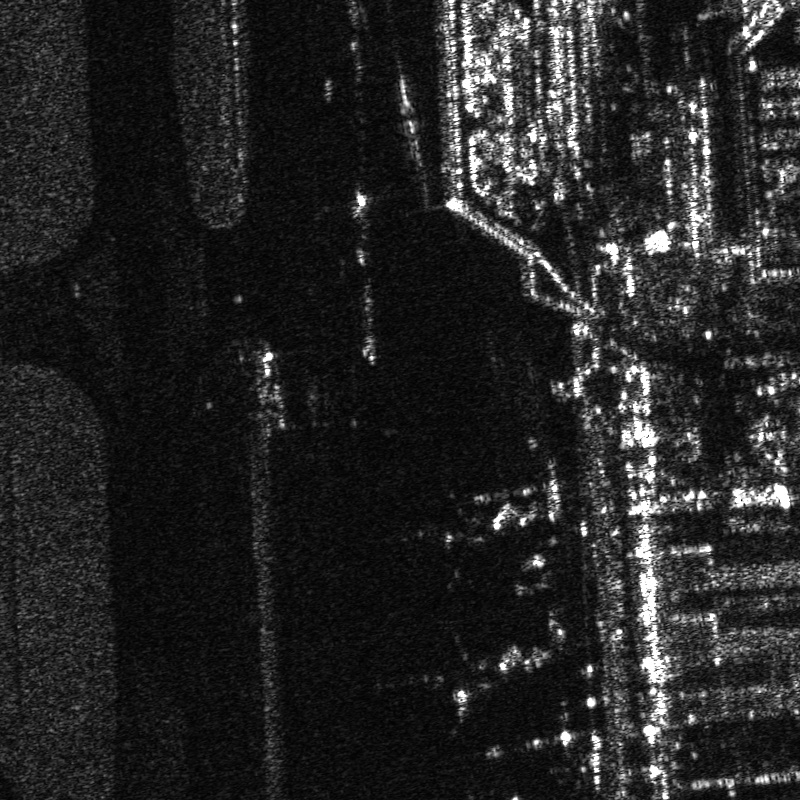ARJ21: (373, 633, 556, 726)
other: (390, 489, 535, 580)
